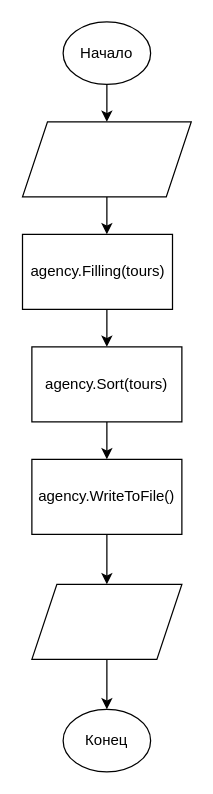
Some shapes in this 213 by 794 pixel diagram are drawn without their labels. Each missing label, with the box of its shape:
agency, x: (21, 121, 191, 197)
Sorted Tours.txt: (31, 583, 182, 659)
